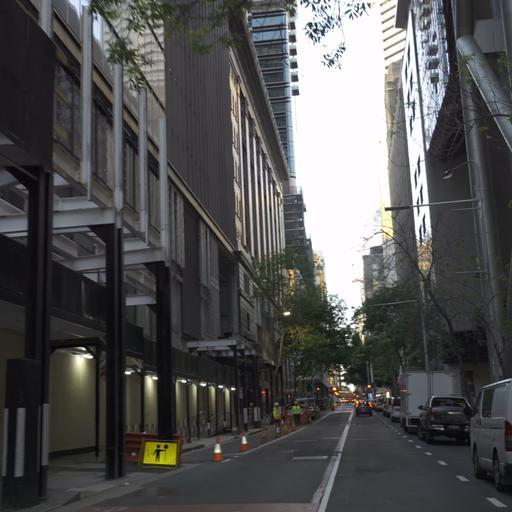Street light: (360, 228, 430, 371), (269, 308, 291, 420), (265, 309, 291, 319)
